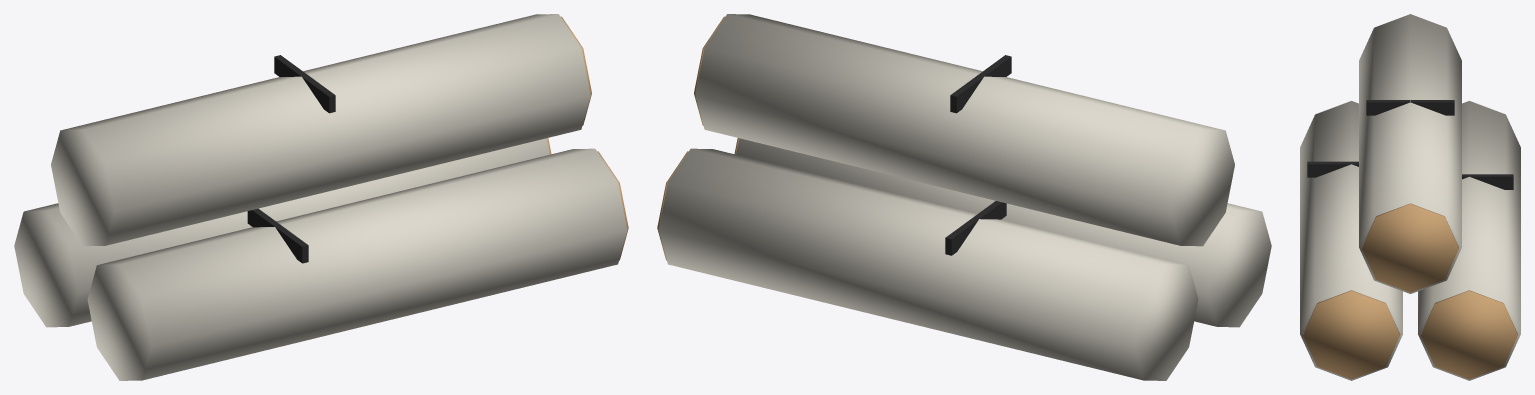
Rendered from firewood.glb.
The picture shows the model from 3 angles, left to right: view 1: azimuth 30°, elevation 25°; view 2: azimuth 150°, elevation 25°; view 3: azimuth 270°, elevation 25°; orthographic projection. The views are drawn at different scales.
Visible parts, largest first — view 1: Item; view 2: Item; view 3: Item.
Boxes of the visible parts, x1,y1,x2,y2 form: Item: [14, 14, 628, 380]; Item: [657, 14, 1271, 380]; Item: [1300, 14, 1520, 380].
Size of the model in its own units: 0.302 by 0.135 by 0.15.
